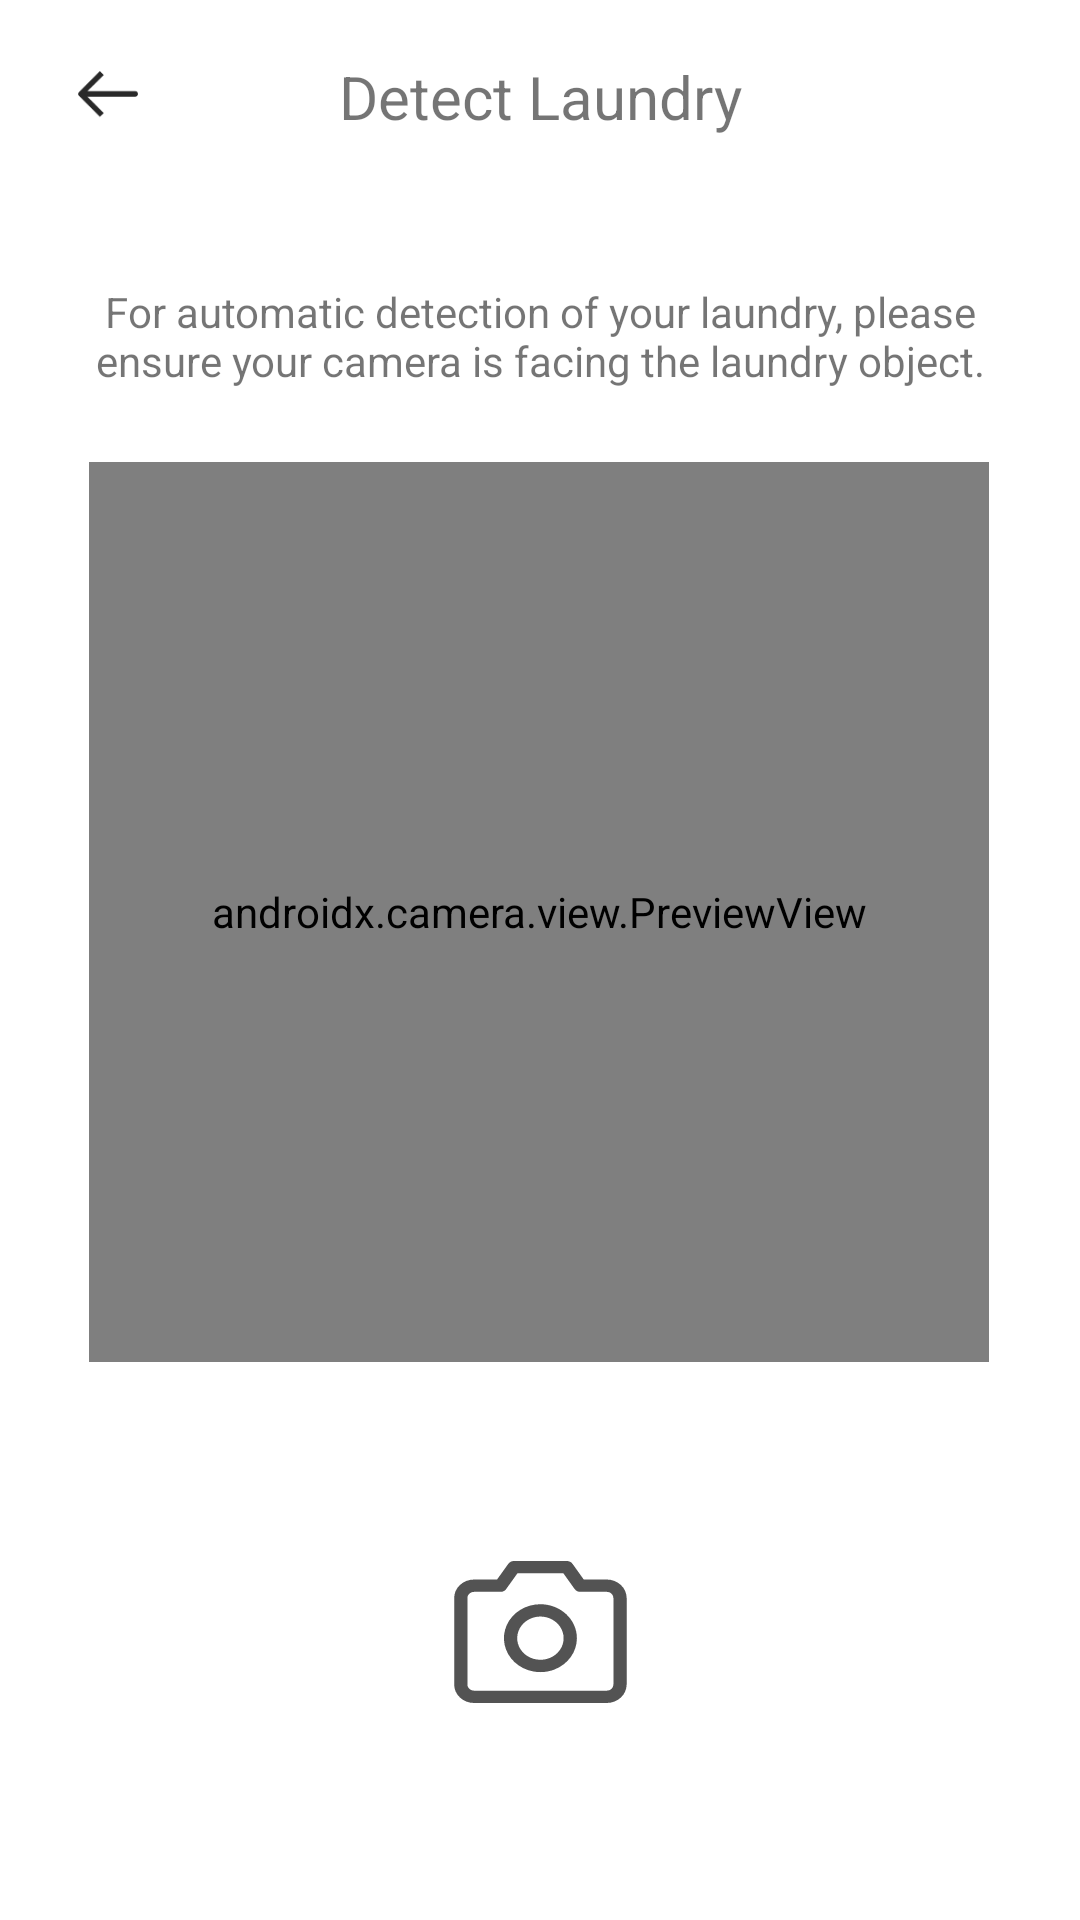

Locate icon controls on the screen. Image size 1080px×1920px, boxes as bbox=(x1, y1, x2, y2).
kemara: bbox=(454, 1561, 627, 1703)
tanda panah: bbox=(78, 71, 138, 117)
